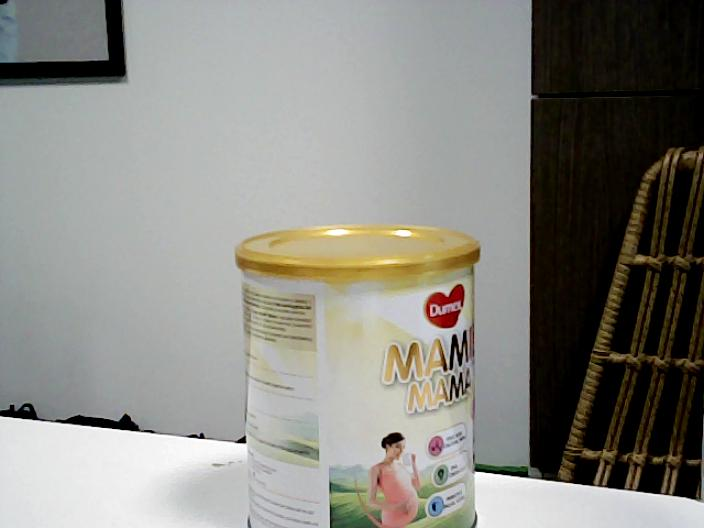MaternalMilkPowder_600-699g_NonHalal_NonHealthy: (233, 222, 484, 528)
